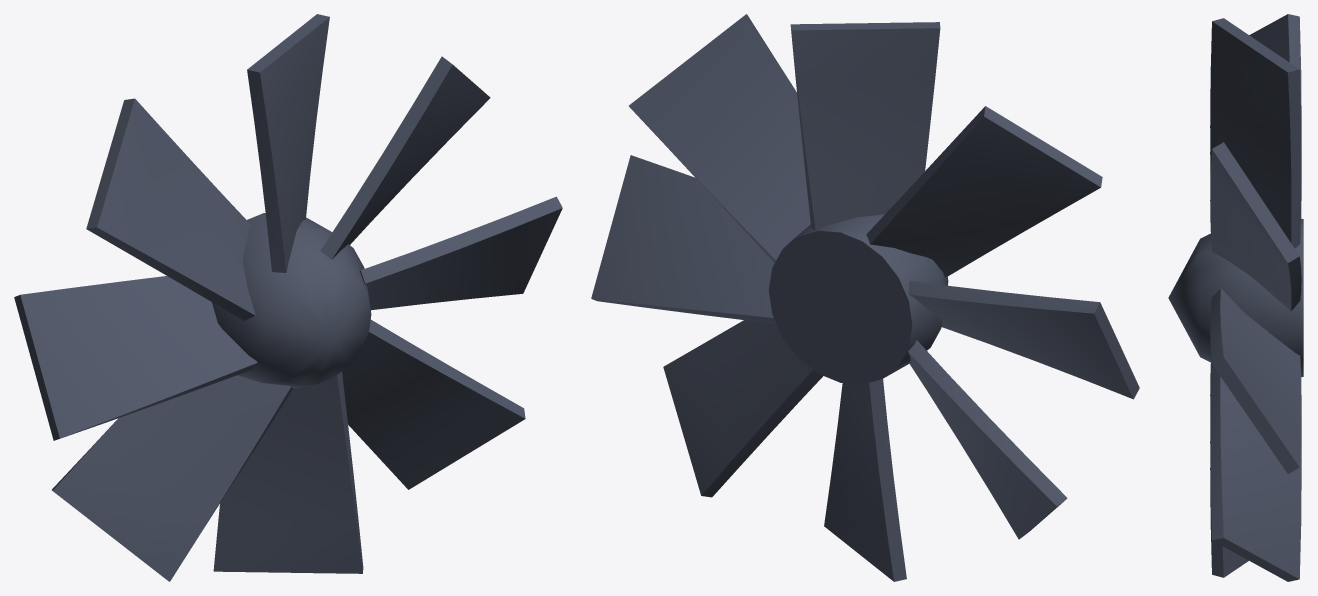
The model's file is EM_FanRear.obj.
The picture shows the model from 3 angles, left to right: view 1: azimuth 30°, elevation 25°; view 2: azimuth 150°, elevation 25°; view 3: azimuth 270°, elevation 25°; orthographic projection. The views are drawn at different scales.
Parts seen in each view (by area): view 1: EM_FanRear; view 2: EM_FanRear; view 3: EM_FanRear.
Boxes of the visible parts, left/top/right/bottom form: EM_FanRear: left=14, top=14, right=562, bottom=581; EM_FanRear: left=591, top=14, right=1139, bottom=581; EM_FanRear: left=1168, top=14, right=1303, bottom=581.
Size of the model in its own units: 1.4 by 1.4 by 0.34.
